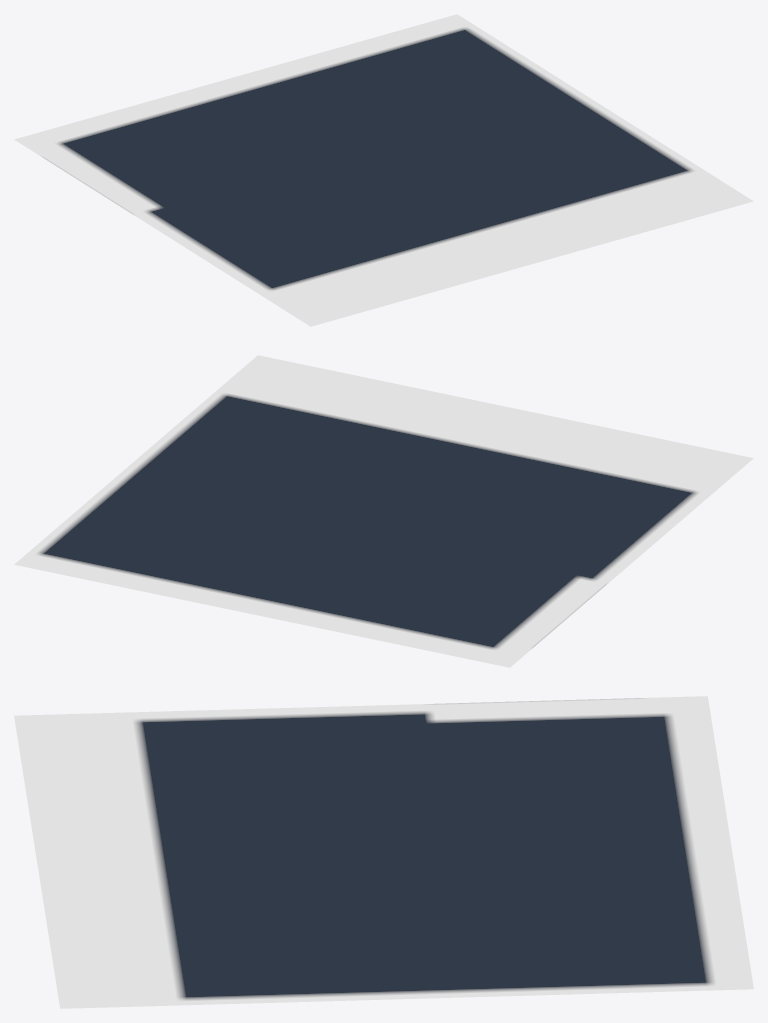
The model's file is jz_fhc_y.fbx.
The picture shows the model from 3 angles, top to bottom: view 1: azimuth 30°, elevation 25°; view 2: azimuth 150°, elevation 25°; view 3: azimuth 270°, elevation 25°; orthographic projection. The views are drawn at different scales.
Visible parts, largest first — view 1: jz_fhc_y; view 2: jz_fhc_y; view 3: jz_fhc_y.
Part boxes in pixels (box(x1,y1,x2,y2)): jz_fhc_y: box(14, 14, 753, 326); jz_fhc_y: box(14, 355, 753, 667); jz_fhc_y: box(14, 696, 753, 1008).
Size of the model in its own units: 186 by 3.88e-14 by 186.
